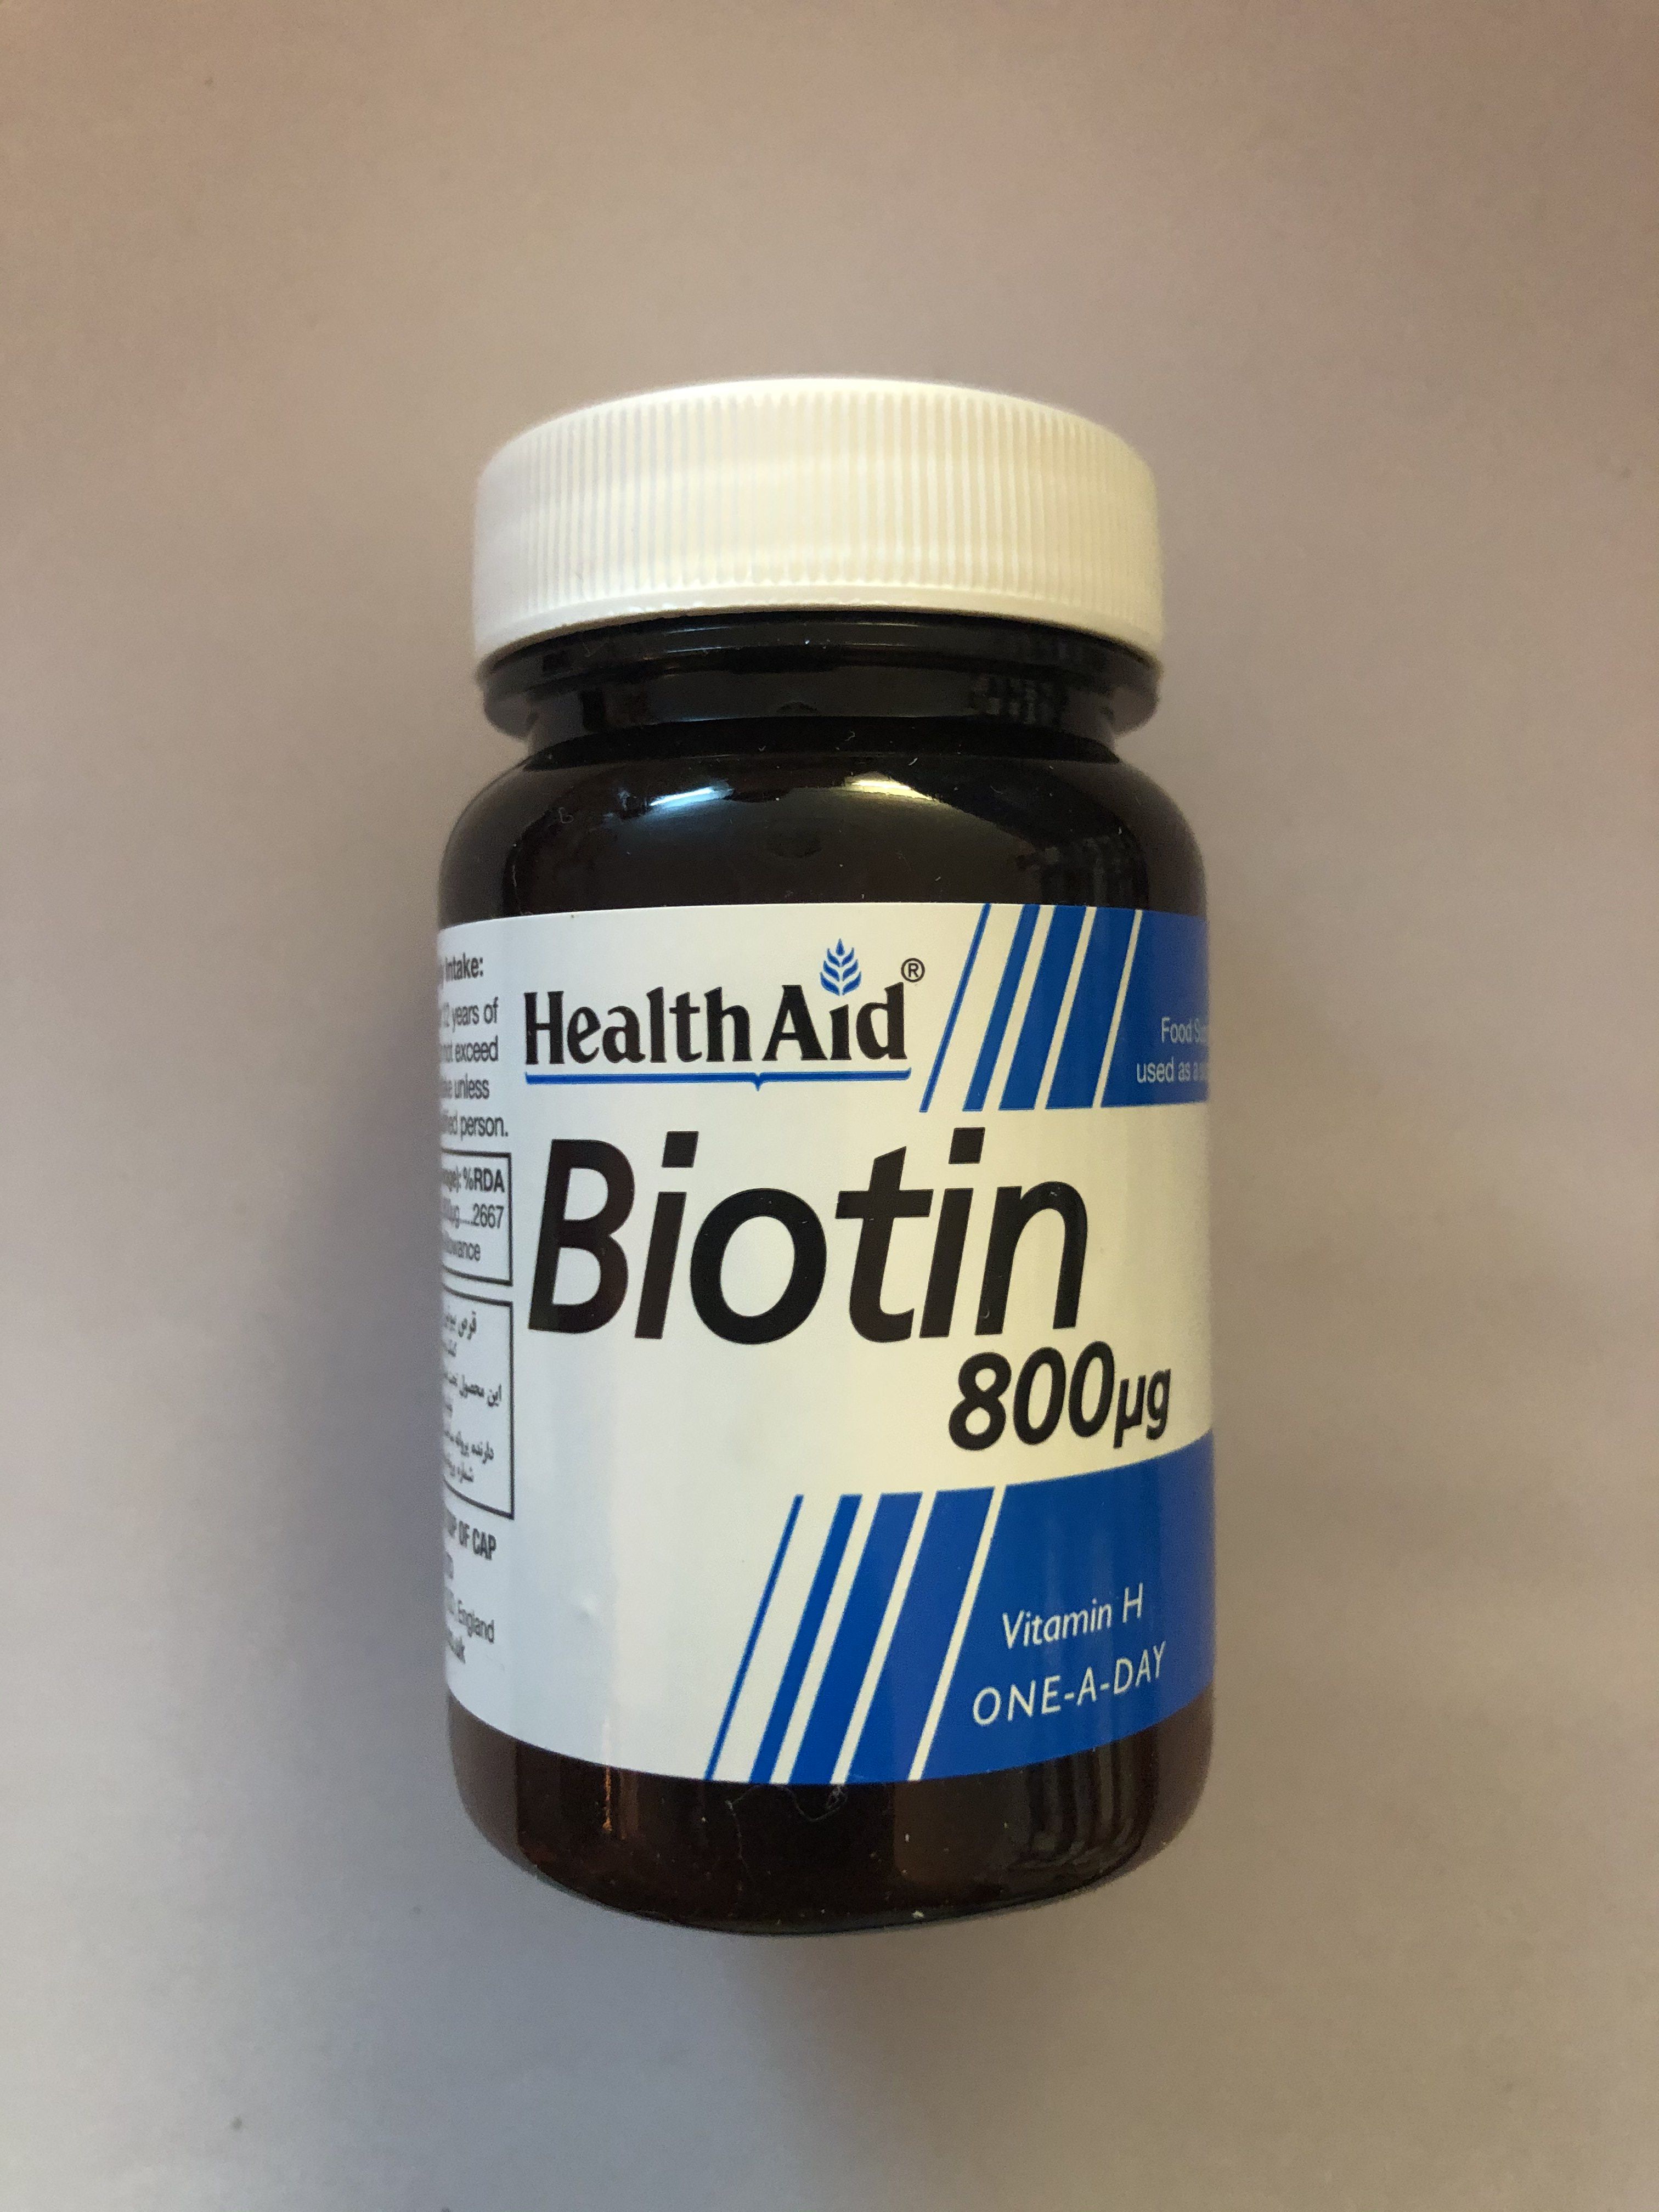Medicine name: (490, 1111, 1192, 1460)
